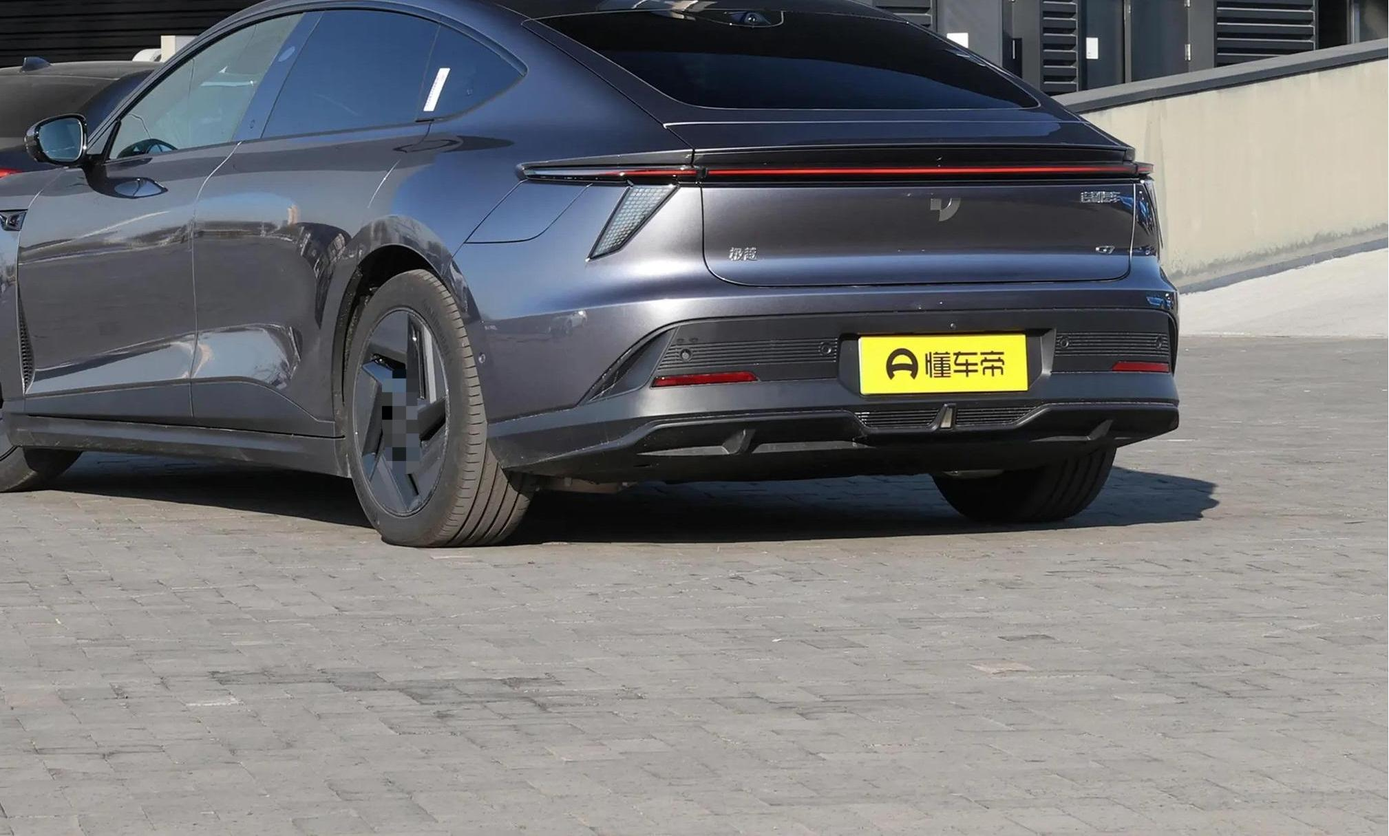JIYUE: (929, 197, 961, 222)
